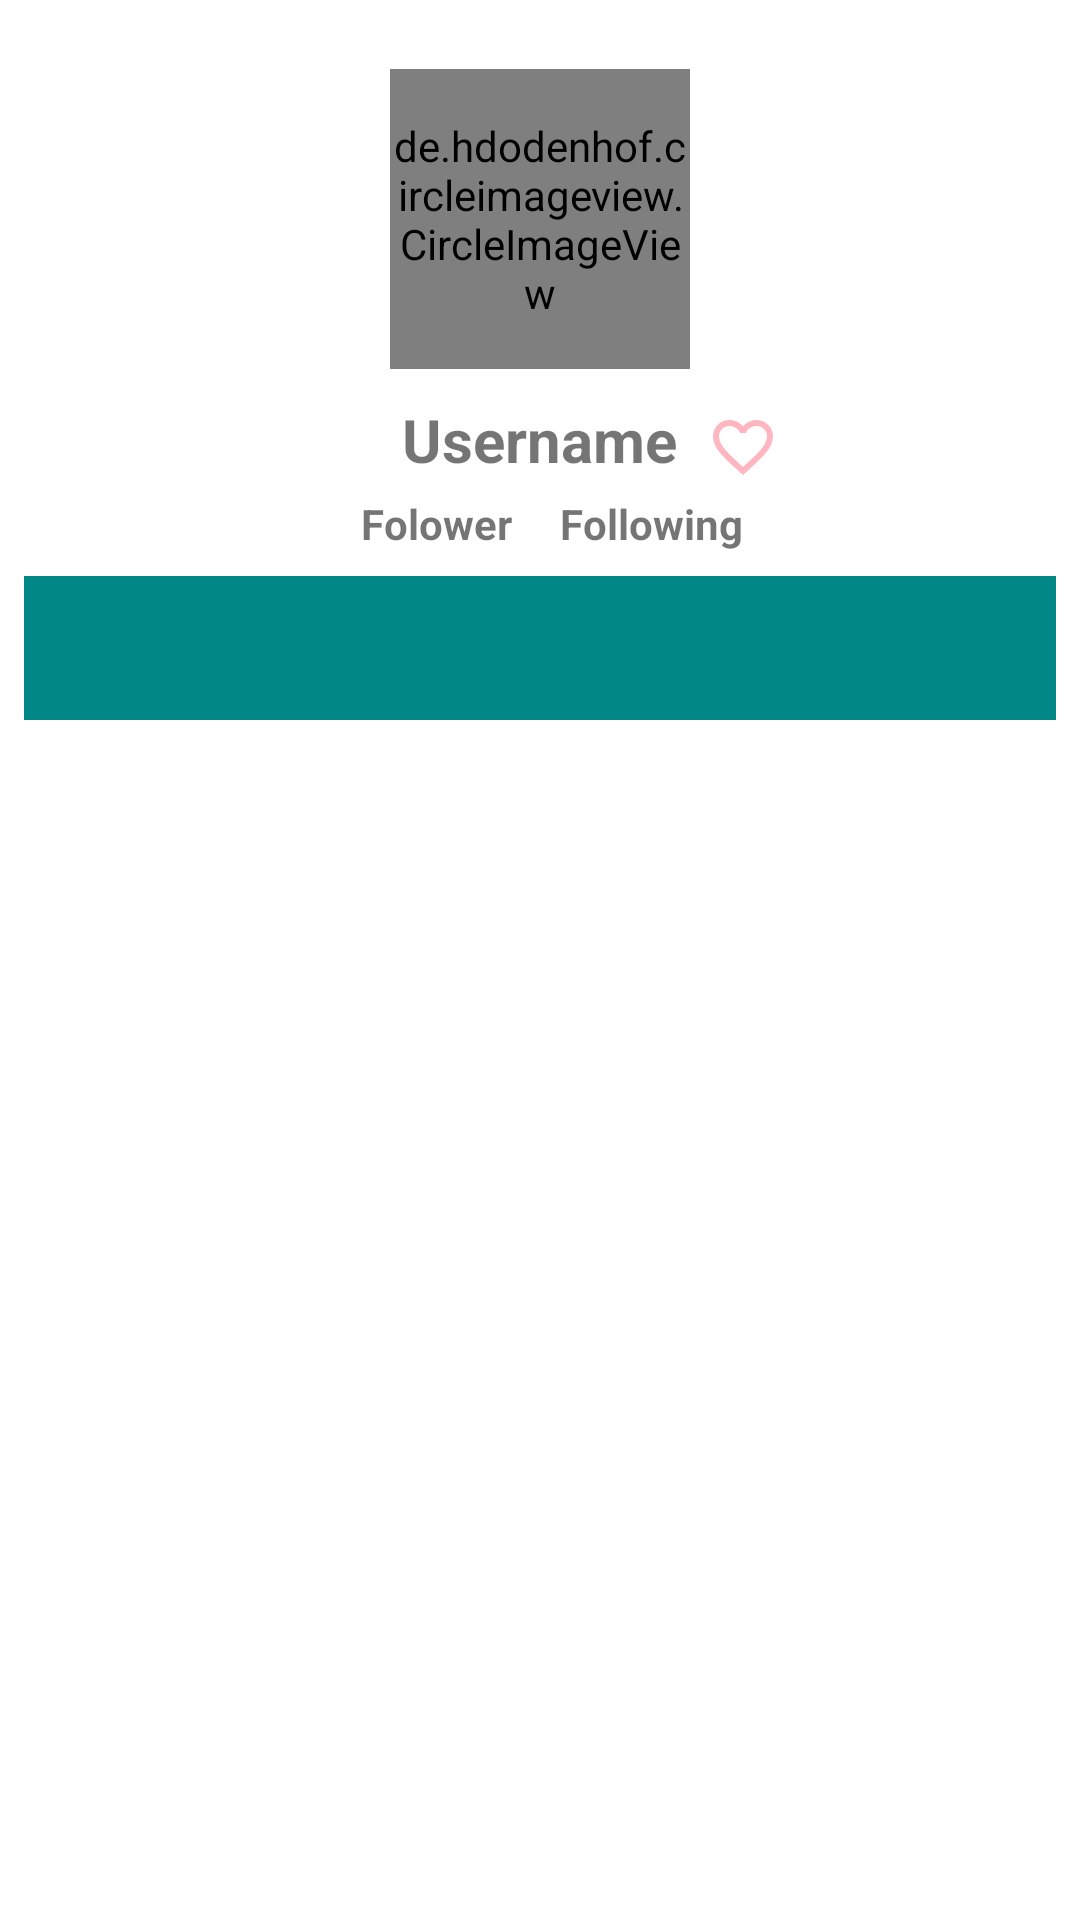

Icons on this 1080w x 1920h Android screen, each with its box as box=[x1, y1, x2, y2]:
favorite border: box=[713, 420, 773, 475]
